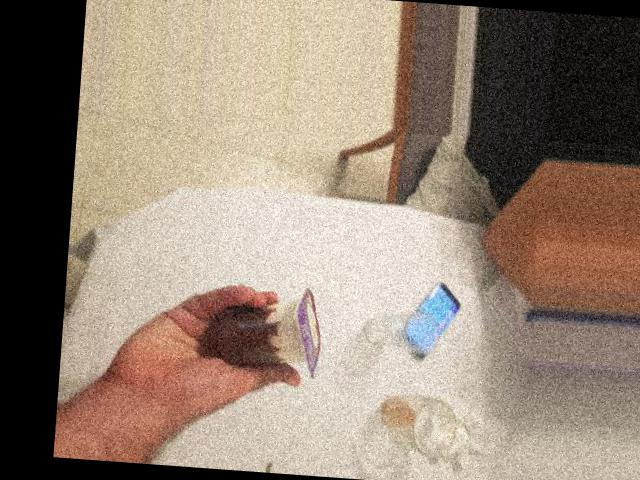milky: (281, 138, 376, 271)
